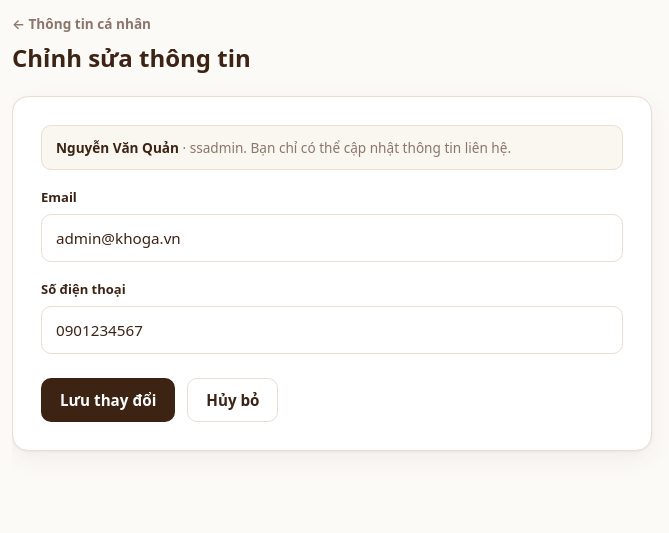
Test: ProfileEdit (07 · Chỉnh sửa thông tin) › chặn lưu khi số điện thoại sai định dạng
The width and height of the screenshot is (669, 533).
Replace the text in the field labelled "Số điện thoại" with "123". click: (332, 330)
box: [41,306,623,354]
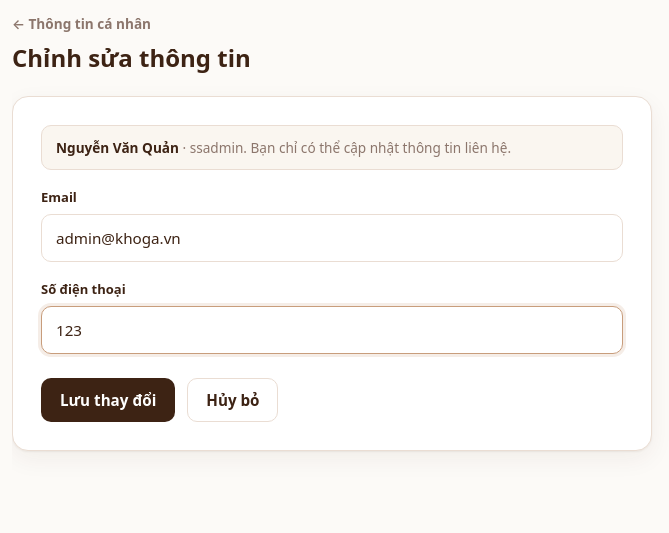
Click the button "Lưu thay đổi". click: (108, 400)
box: [41,378,175,422]
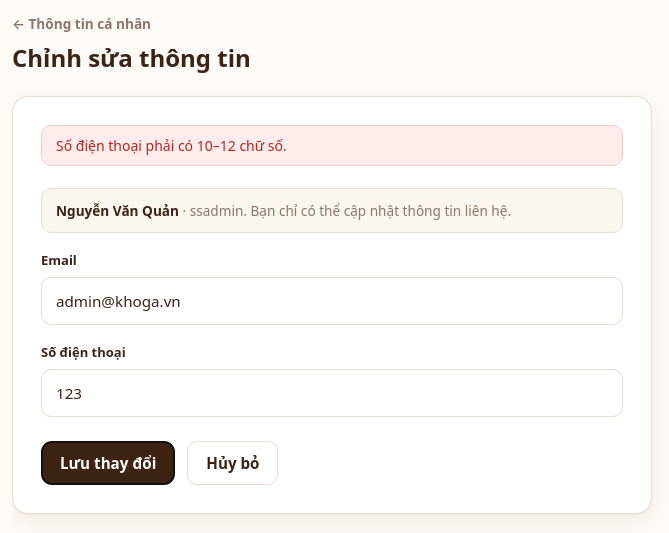
Now the text "Số điện thoại phải có 10–12 chữ số." is shown, box [41,125,623,166]
